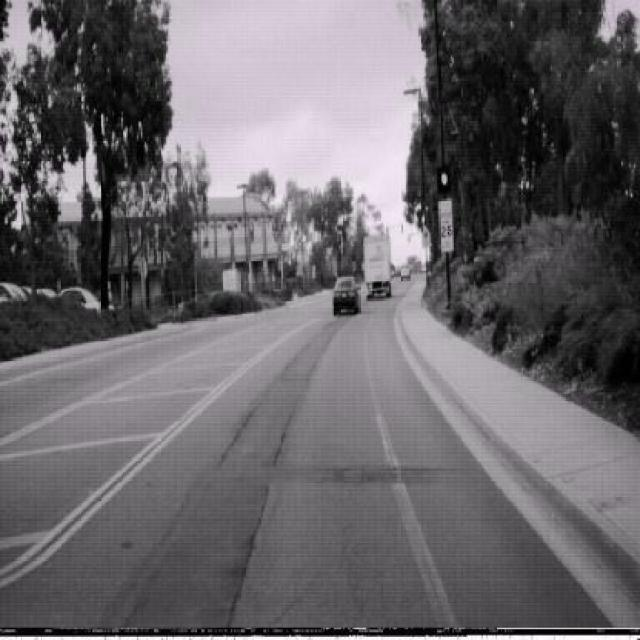schoolSpeedLimit25: (437, 197, 455, 252)
